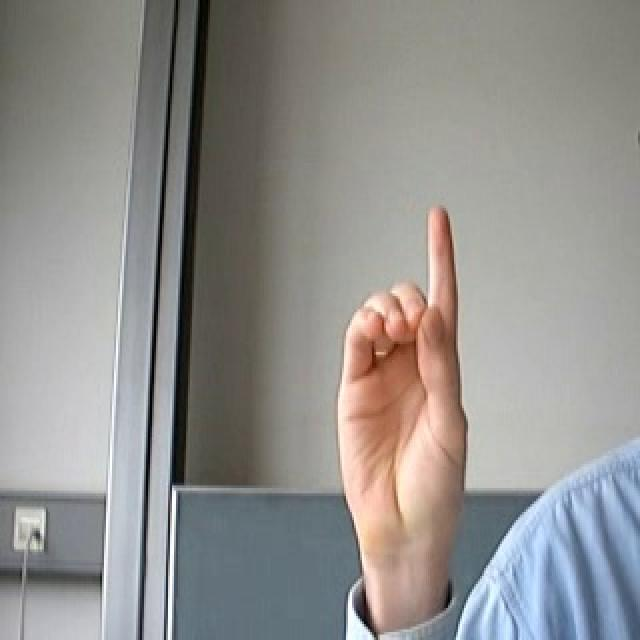D: (336, 191, 476, 567)
